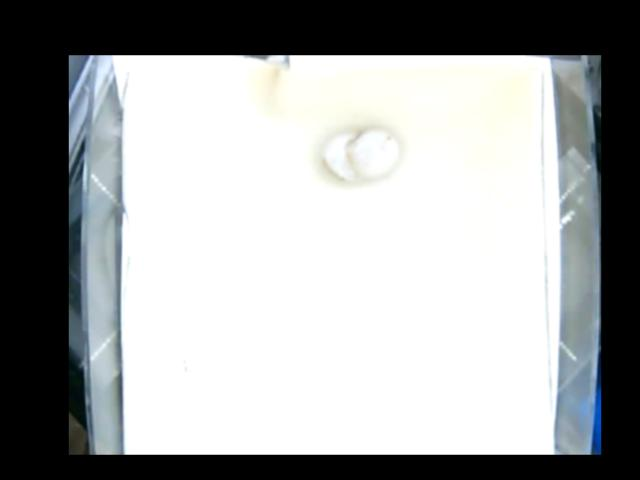Pebble: (325, 124, 396, 180)
